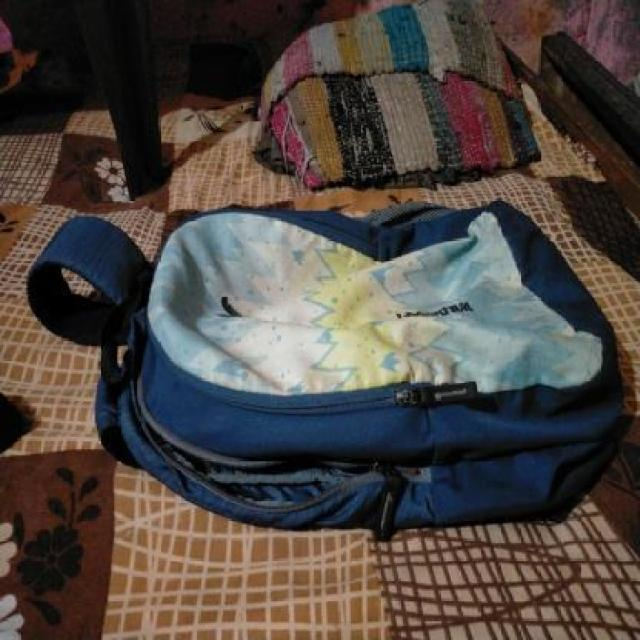backpack: (22, 197, 636, 543)
